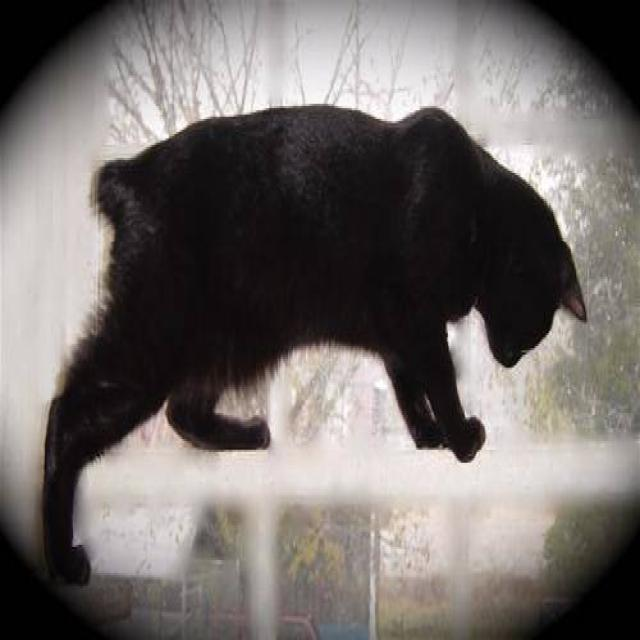cat: (41, 99, 587, 586)
